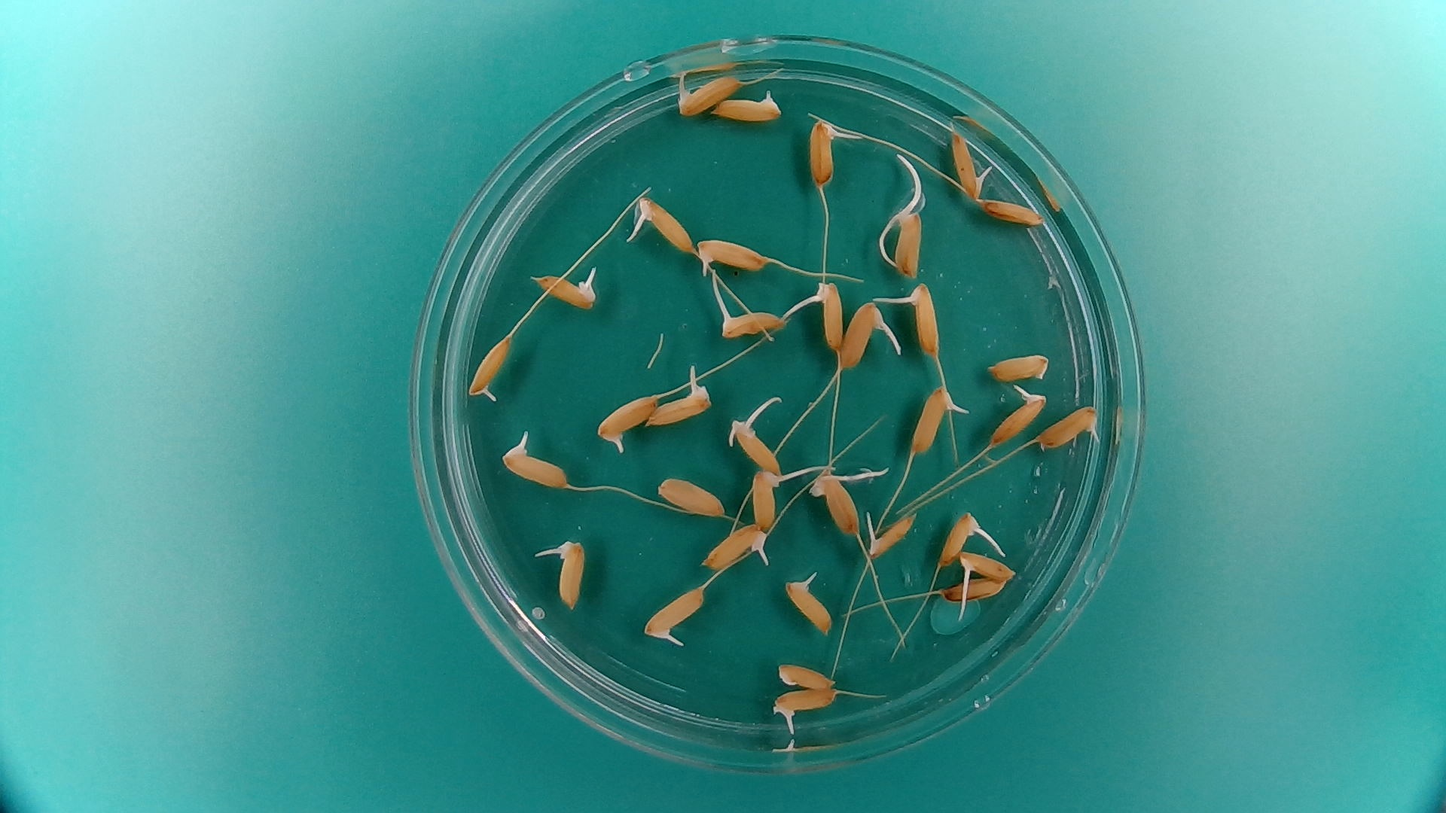no: (655, 474, 728, 517), (978, 193, 1046, 227), (941, 577, 1008, 611), (985, 351, 1051, 384), (776, 657, 839, 691)
yes: (627, 193, 695, 257), (839, 299, 895, 373), (641, 583, 707, 645), (908, 382, 964, 455), (593, 391, 660, 452), (987, 384, 1048, 446), (727, 408, 784, 474), (810, 468, 862, 537), (897, 280, 942, 359), (782, 568, 834, 636), (466, 331, 514, 404), (699, 521, 770, 570), (947, 126, 992, 202), (500, 445, 574, 491), (1037, 403, 1104, 452), (803, 278, 845, 356), (694, 233, 770, 276), (675, 72, 745, 118), (529, 267, 602, 311), (807, 112, 849, 187), (649, 381, 716, 428), (548, 534, 587, 612), (717, 301, 790, 340), (938, 508, 987, 566), (712, 86, 786, 124), (770, 687, 838, 725), (865, 511, 918, 558), (890, 214, 923, 282), (956, 547, 1015, 583), (749, 469, 782, 530)
